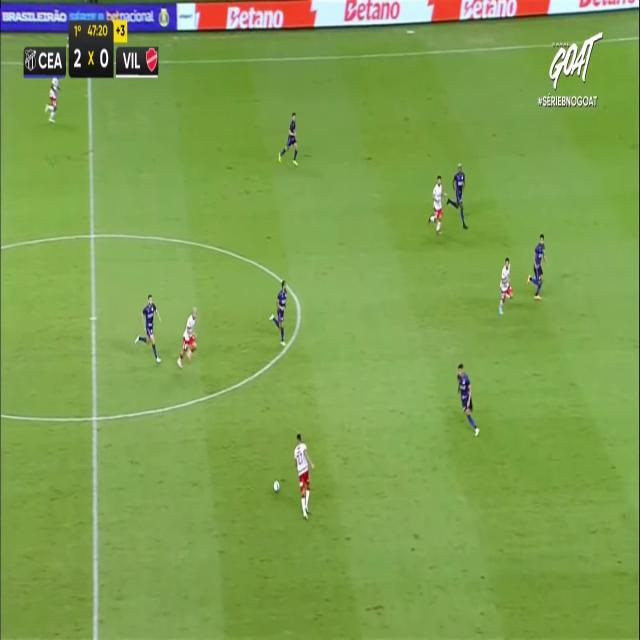ball: (273, 480, 279, 492)
player: (134, 294, 162, 364), (294, 432, 315, 519), (457, 363, 480, 437), (446, 162, 468, 228), (527, 233, 547, 299), (176, 306, 197, 368), (269, 278, 287, 346), (278, 111, 299, 166), (428, 174, 446, 235), (498, 256, 513, 315), (45, 77, 61, 123)
